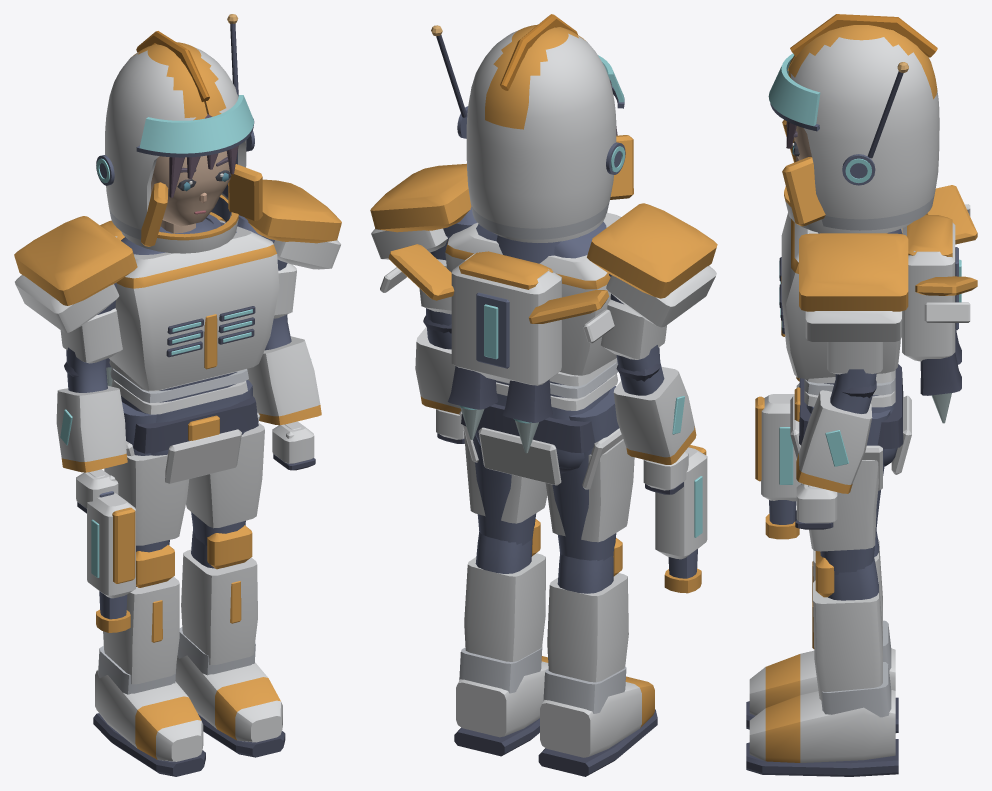
File: jo_meca.glb
3 renders of one model, left to right at view 1: azimuth 30°, elevation 25°; view 2: azimuth 150°, elevation 25°; view 3: azimuth 270°, elevation 25°, orthographic. The views are drawn at different scales.
Visible parts, largest first — view 1: torso, coiffe, arm_r, epaule_r, jambe_r, shin_l, jambe_l, arm_l, shin_r, leg_r, epaule_l, leg_l (+6 smaller); view 2: coiffe, dos, torso, epaule_r, arm_r, jambe_r, shin_r, shin_l, leg_r, jambe_l, epaule_l, arm_l (+5 smaller); view 3: coiffe, jambe_l, epaule_l, dos, arm_l, torso, shin_l, leg_l, gun, jambe_r, coiffe_glow, gun_glow (+5 smaller).
Part boxes in pixels (<box>): torso: <box>109,218,279,483</box>; coiffe: <box>96,23,262,246</box>; arm_r: <box>56,282,127,513</box>; epaule_r: <box>14,216,137,332</box>; jambe_r: <box>93,645,205,776</box>; shin_l: <box>181,525,257,665</box>; jambe_l: <box>175,627,285,757</box>; arm_l: <box>225,215,321,470</box>; shin_r: <box>103,545,179,684</box>; leg_r: <box>104,402,189,552</box>; epaule_l: <box>245,179,341,269</box>; leg_l: <box>186,380,264,545</box>; coiffe: <box>436,14,633,239</box>; dos: <box>380,244,614,422</box>; torso: <box>445,212,623,489</box>; epaule_r: <box>587,203,717,327</box>; arm_r: <box>601,274,696,494</box>; jambe_r: <box>538,666,657,776</box>; shin_r: <box>547,538,628,682</box>; shin_l: <box>464,519,545,661</box>; leg_r: <box>545,386,634,560</box>; jambe_l: <box>454,647,548,756</box>; epaule_l: <box>370,163,471,259</box>; arm_l: <box>415,207,476,443</box>; coiffe: <box>770,14,939,230</box>; jambe_l: <box>746,662,898,776</box>; epaule_l: <box>799,233,908,341</box>; dos: <box>902,185,977,395</box>; arm_l: <box>795,342,882,529</box>; torso: <box>779,212,911,490</box>; shin_l: <box>812,551,882,701</box>; leg_l: <box>809,406,890,574</box>; gun: <box>755,394,800,539</box>; jambe_r: <box>746,620,898,732</box>; coiffe_glow: <box>768,53,908,183</box>; gun_glow: <box>779,427,793,484</box>.
Size of the model in its own units: 0.5538 by 1.27 by 0.3641.
